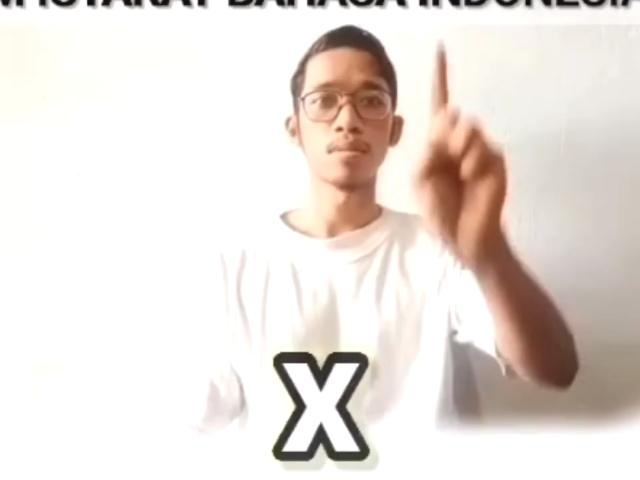X: (404, 34, 534, 257)
